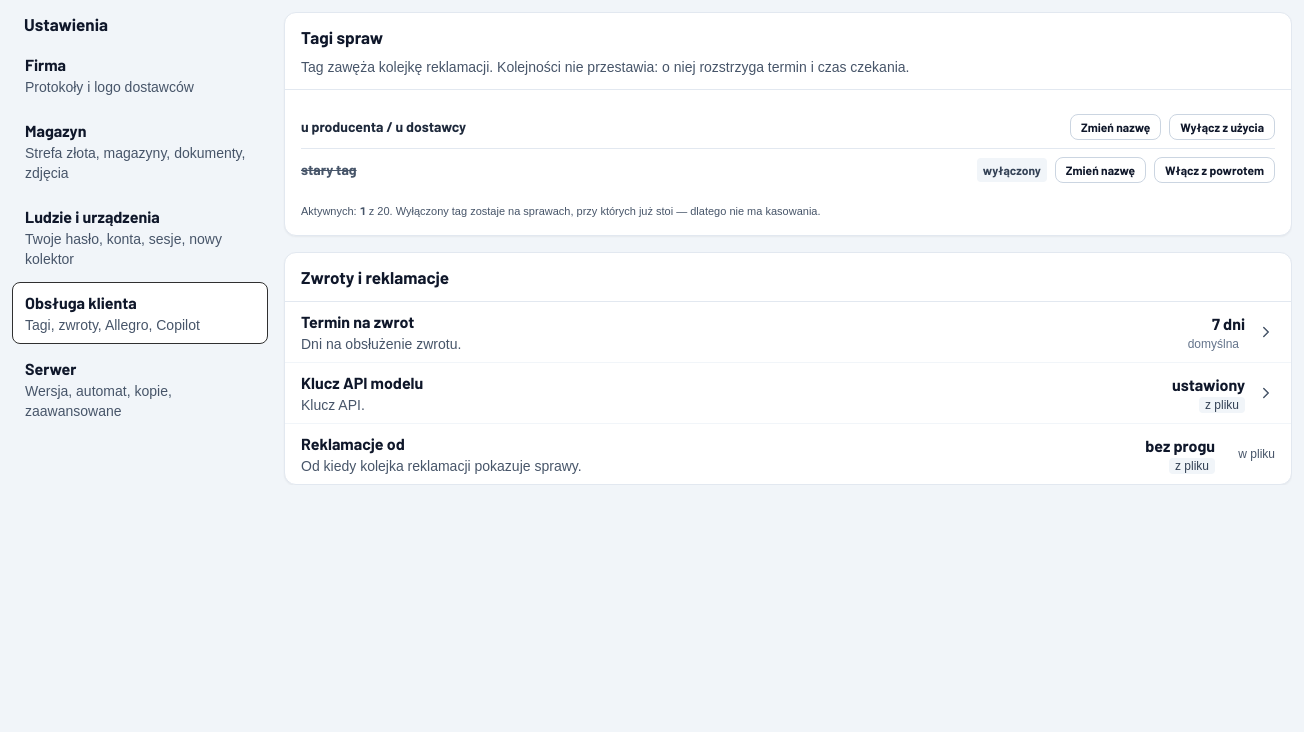
Scenario: Ustawienia w panelu › sekret: pole puste na start, pustego nie zapisze
Step 1. Click the button "Klucz API modelu Klucz API. ustawiony z pliku" → (362, 382), box x1=285 y1=363 x2=1291 y2=423
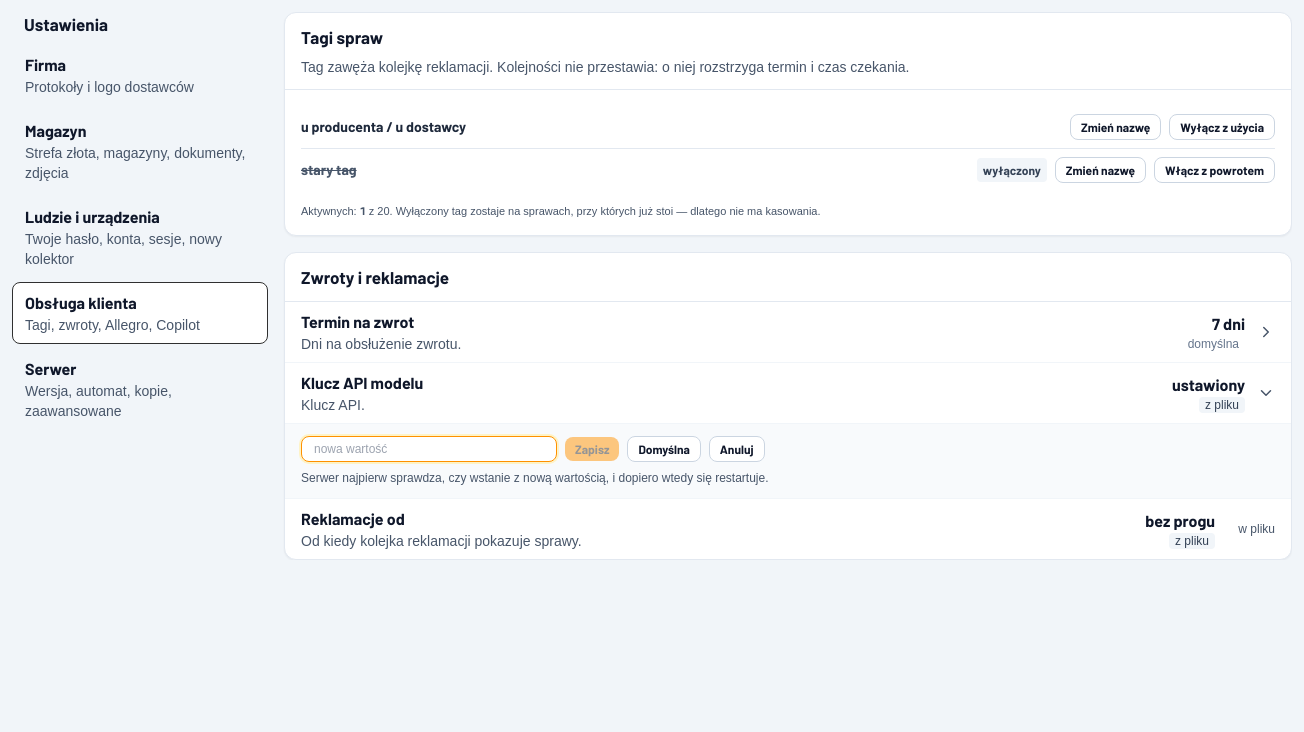
Now the password field named "Klucz API modelu" is empty, box x1=301 y1=436 x2=557 y2=462
Now the button "Zapisz" is disabled, box x1=565 y1=437 x2=620 y2=461
